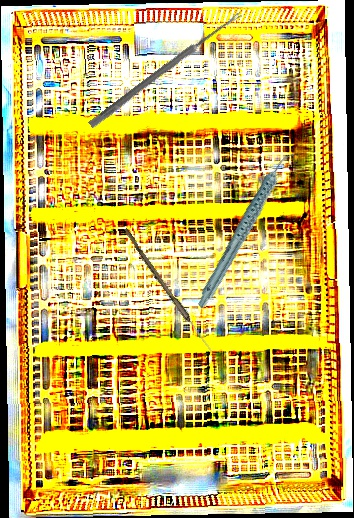Handpiece: (170, 150, 323, 310)
Surgical Spoon: (88, 9, 243, 130), (121, 227, 215, 354)
